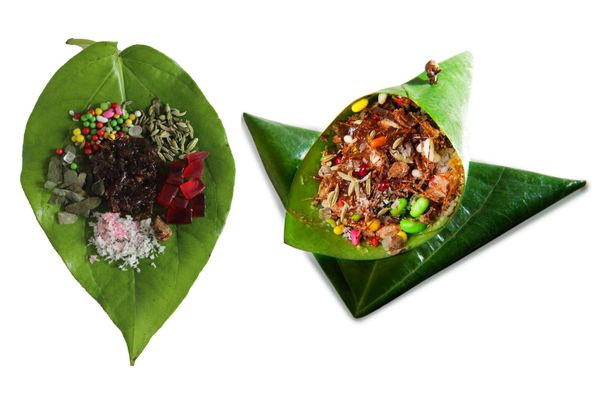soup: (20, 39, 238, 367)
